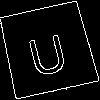U: (23, 24, 71, 78)
